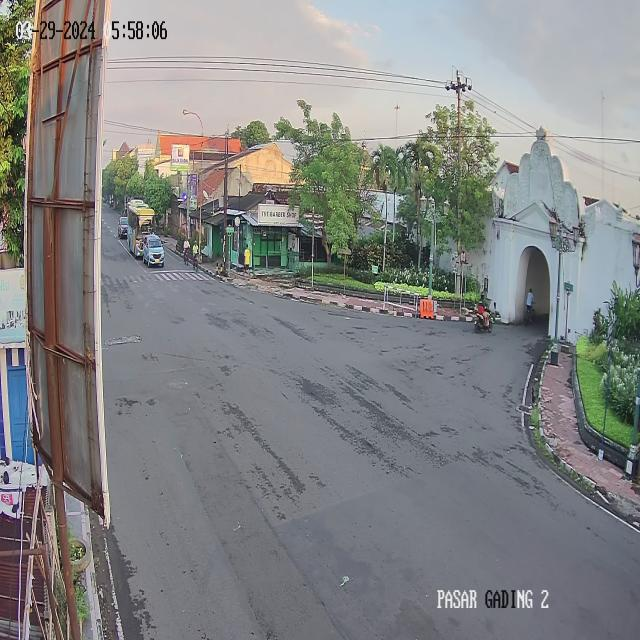bus: (126, 202, 156, 260), (126, 198, 150, 224)
car: (142, 232, 165, 268), (117, 216, 129, 240)
motorcycle: (474, 290, 493, 335)
